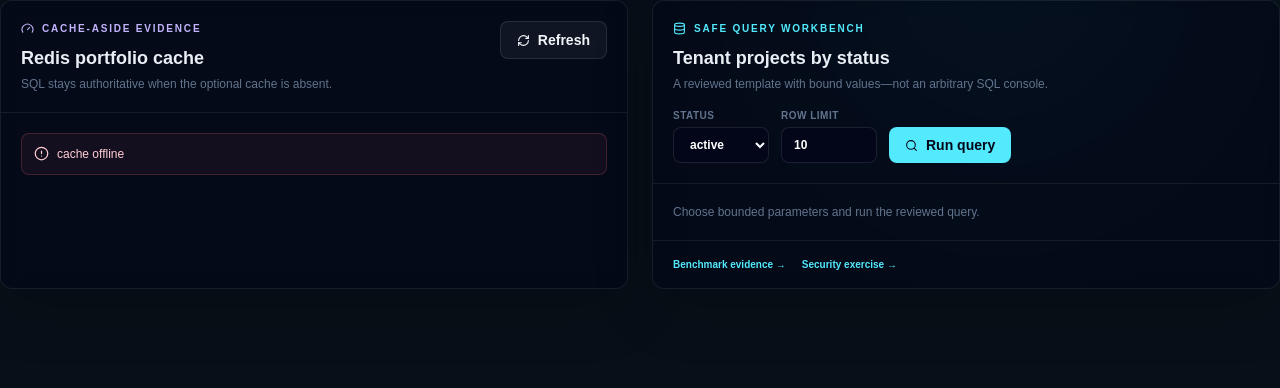
it: DatabaseOperationsWorkbench › shows independent cache and query failure states
This screenshot has width=1280, height=388.
Expected: the message reads "cache offline", [57, 147, 124, 161]
Click the button "Run query" at (950,145), box [889, 127, 1011, 163]
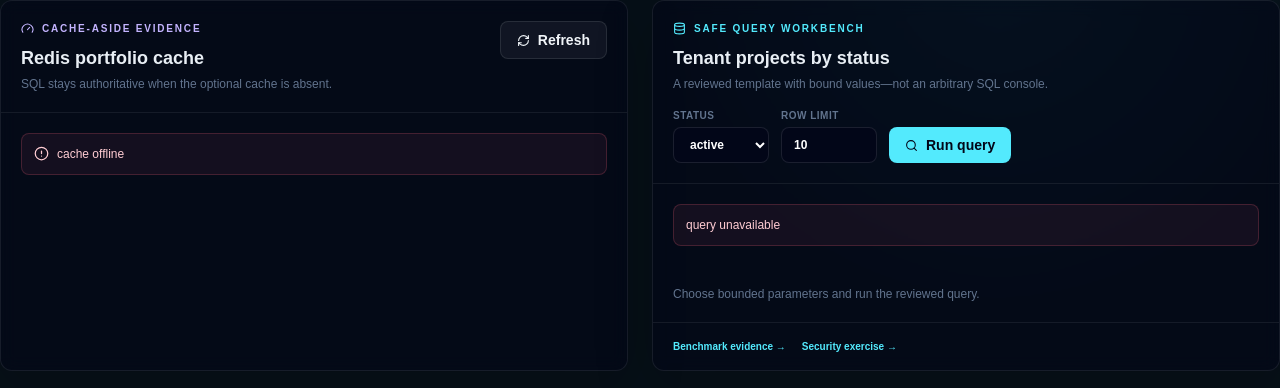
Now the text "query unavailable" is shown, box [673, 204, 1259, 246]
